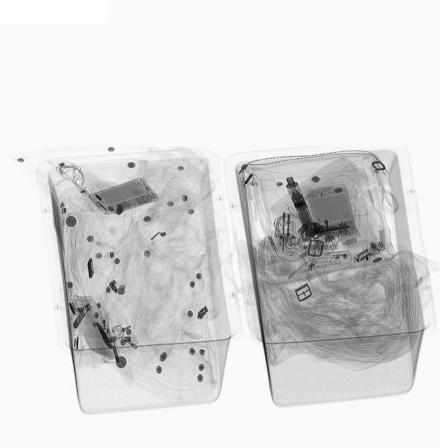Lighter: (316, 234, 361, 254)
